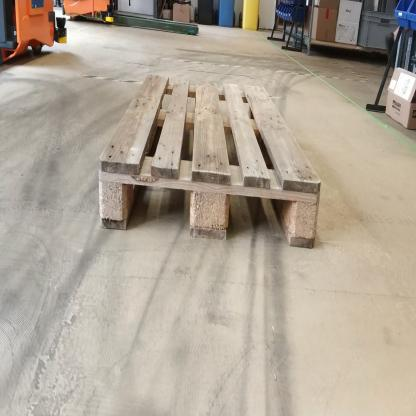BoxFace: (94, 68, 328, 258)
